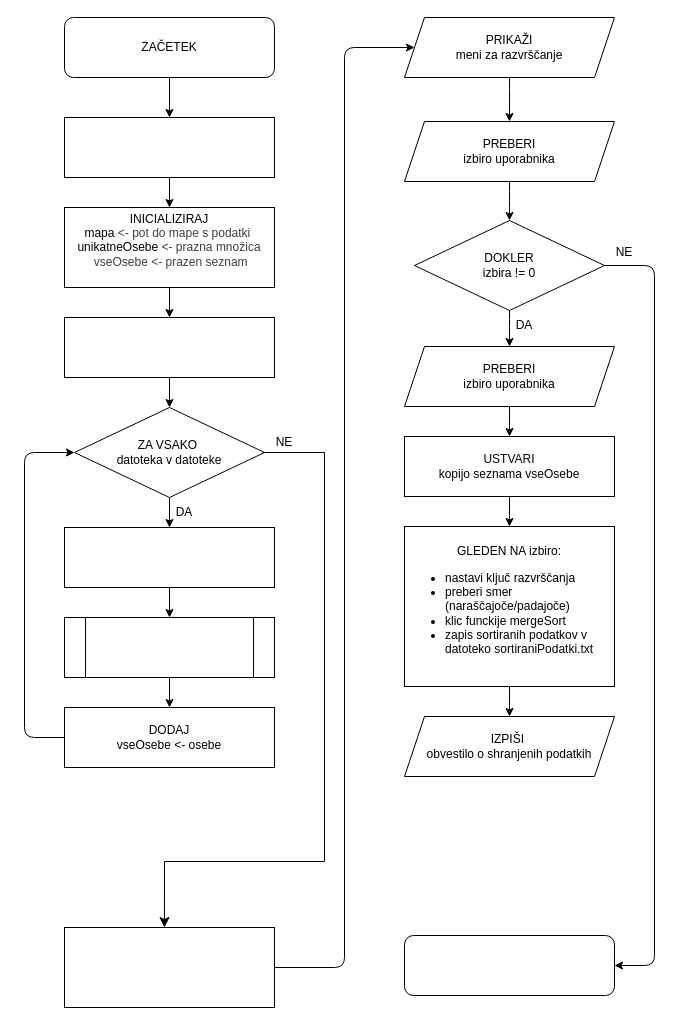
The diagram is 680 pixels wide and 1025 high, and some of its shapes have lost their labels. Each missing label, with the centre of its shape:
KONEC PROGRAMA: (x=509, y=965)
NALOŽI MODULE (validacija, razvrscanje, os, copy): (x=169, y=147)
OBDELAJ IN VALIDIRAJ osebe <- locenjePodatov(): (x=169, y=647)
PREBERI vsebino datoteke vsebina <- branjeTXT(): (x=169, y=557)
PRIDOBI seznam vseh .txt datoteki v mapi datoteke <- pridobi_txt(): (x=169, y=347)
ZAPIŠI vseOsebe v datoteko osebe.txt klic funckije pisanjePodatkov(): (x=169, y=967)
